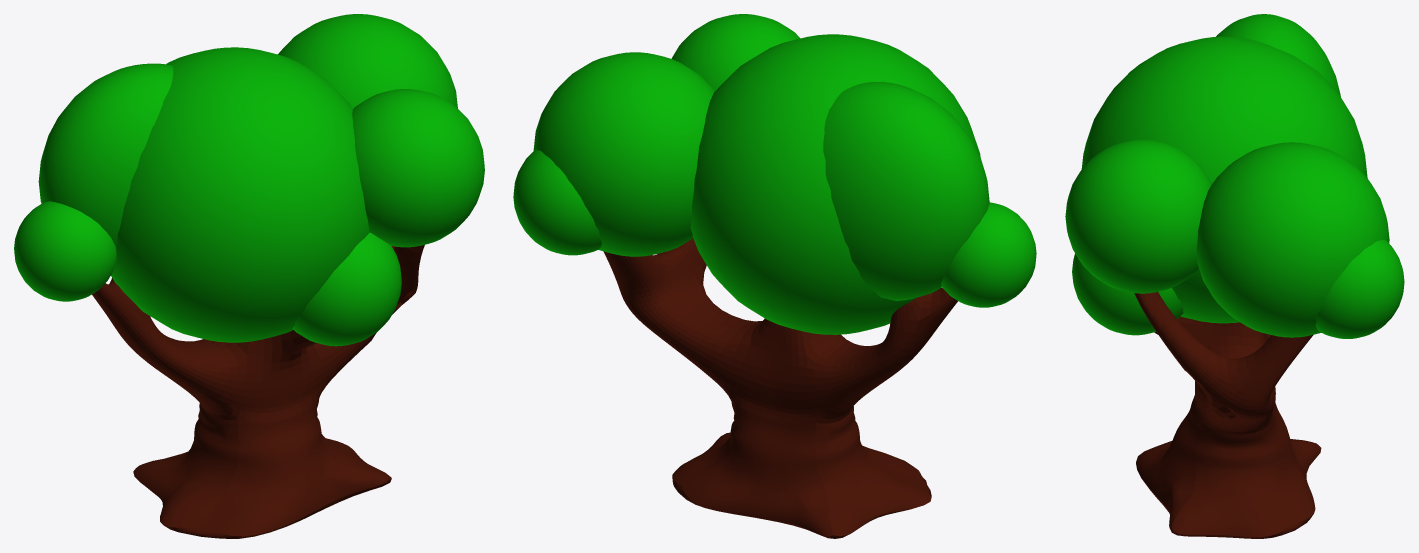
Rendered from Tree1.FBX.
3 renders of one model, left to right at view 1: azimuth 30°, elevation 25°; view 2: azimuth 150°, elevation 25°; view 3: azimuth 270°, elevation 25°, orthographic. The views are drawn at different scales.
Visible parts, largest first — view 1: Sphere003, Box001, Sphere005, Sphere002, Sphere006, Sphere001, Sphere004; view 2: Box001, Sphere003, Sphere002, Sphere006, Sphere001, Sphere007, Sphere005; view 3: Box001, Sphere006, Sphere003, Sphere005, Sphere007, Sphere004, Sphere002.
Boxes of the visible parts, x1,y1,x2,y2 form: Sphere003: (111,47,369,342); Box001: (92,245,424,538); Sphere005: (352,89,484,247); Sphere002: (38,63,173,275); Sphere006: (278,14,457,108); Sphere001: (14,201,116,301); Sphere004: (293,232,401,346); Box001: (603,238,957,538); Sphere003: (690,34,980,334); Sphere002: (823,82,989,300); Sphere006: (533,52,714,256); Sphere001: (941,202,1036,307); Sphere007: (513,149,601,255); Sphere005: (671,14,800,90); Box001: (1134,291,1321,538); Sphere006: (1196,142,1389,337); Sphere003: (1081,36,1367,323); Sphere005: (1065,139,1211,293); Sphere007: (1315,239,1404,338); Sphere004: (1072,253,1183,335); Sphere002: (1216,14,1340,96).
Bounding box in the file's own units: 290 × 274 × 195.
